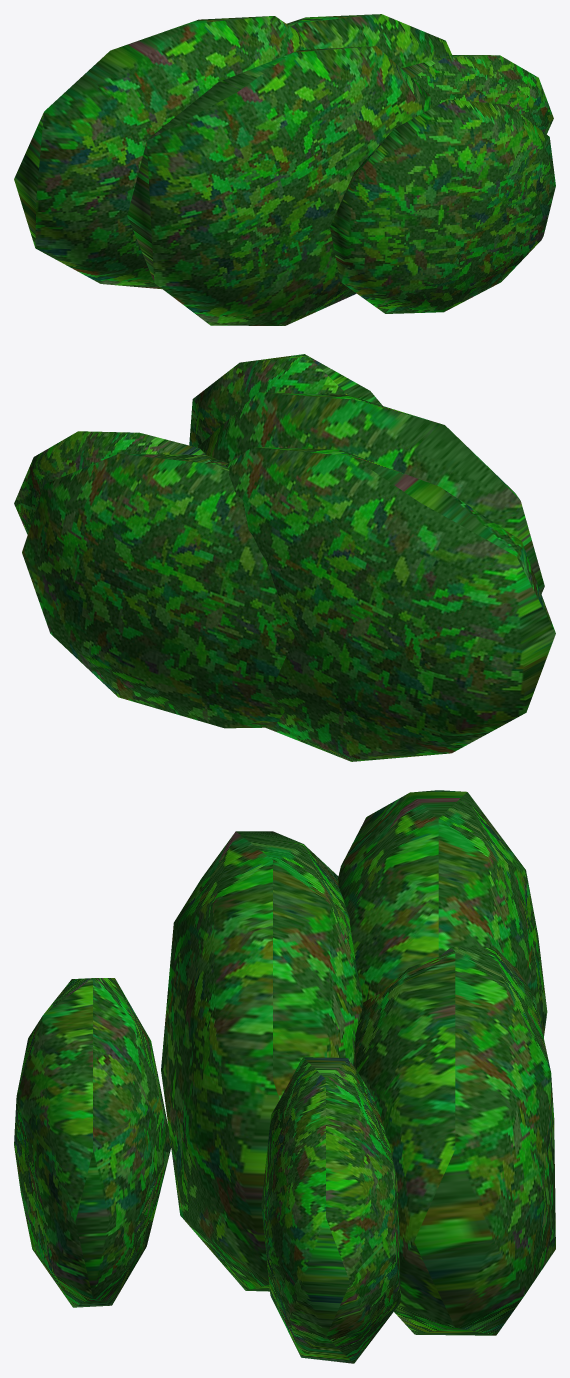
File: plant_bushFern.glb
The picture shows the model from 3 angles, top to bottom: view 1: azimuth 30°, elevation 25°; view 2: azimuth 150°, elevation 25°; view 3: azimuth 270°, elevation 25°; orthographic projection. The views are drawn at different scales.
Parts seen in each view (by area): view 1: Canopy_3, Canopy_4, Canopy_2, Canopy_0, Canopy_1; view 2: Canopy_2, Canopy_1, Canopy_3, Canopy_4, Canopy_0; view 3: Canopy_1, Canopy_3, Canopy_4, Canopy_0, Canopy_2.
Boxes of the visible parts, left/top/right/bottom form: Canopy_3: left=127, top=46, right=432, bottom=325; Canopy_4: left=330, top=99, right=555, bottom=313; Canopy_2: left=14, top=16, right=309, bottom=289; Canopy_0: left=401, top=55, right=553, bottom=134; Canopy_1: left=286, top=14, right=451, bottom=68; Canopy_2: left=225, top=447, right=555, bottom=761; Canopy_1: left=22, top=454, right=294, bottom=728; Canopy_3: left=198, top=392, right=544, bottom=593; Canopy_4: left=189, top=354, right=382, bottom=447; Canopy_0: left=14, top=431, right=205, bottom=534; Canopy_1: left=353, top=945, right=555, bottom=1335; Canopy_3: left=161, top=831, right=362, bottom=1291; Canopy_4: left=14, top=978, right=171, bottom=1307; Canopy_0: left=261, top=1057, right=400, bottom=1363; Canopy_2: left=338, top=790, right=547, bottom=1037.
Size of the model in its own units: 1.71 by 0.9038 by 1.06.
1 material, 1 textured.
